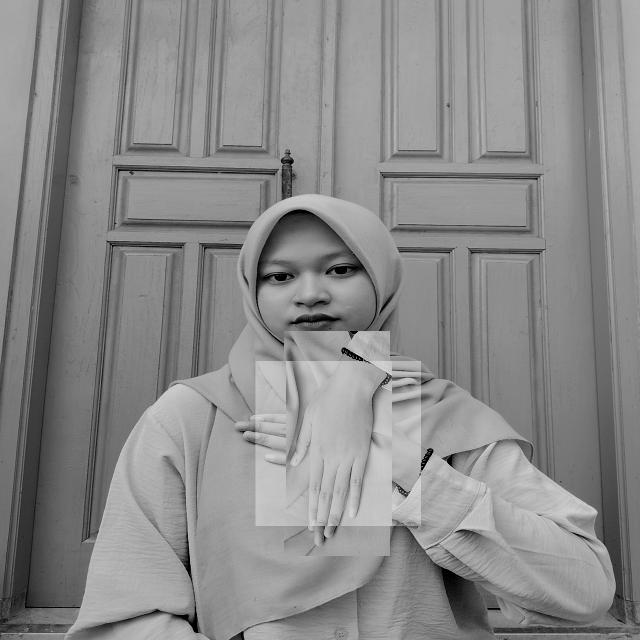tolong: (254, 361, 420, 526)
